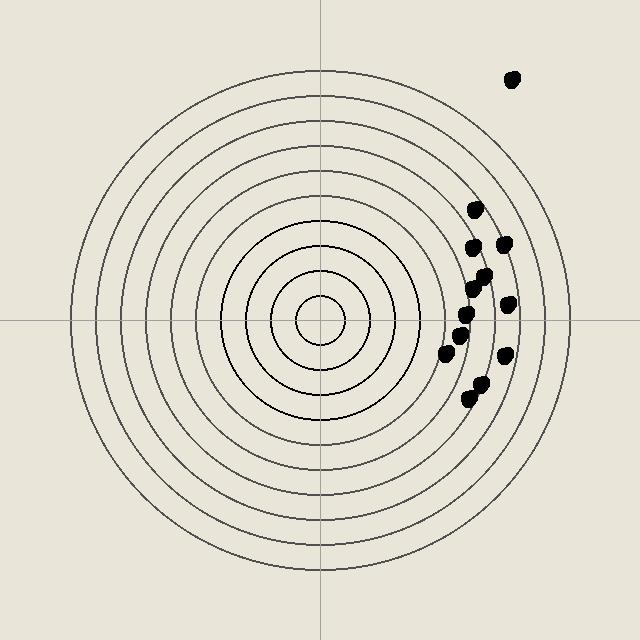vertical_scatter: (470, 374, 490, 394), (458, 388, 478, 408), (462, 237, 482, 257), (473, 266, 493, 286), (455, 304, 475, 324), (462, 278, 482, 298), (449, 325, 469, 345), (464, 199, 484, 219), (493, 234, 513, 254), (435, 343, 455, 363), (497, 294, 517, 314), (494, 345, 514, 365), (501, 69, 521, 89)
